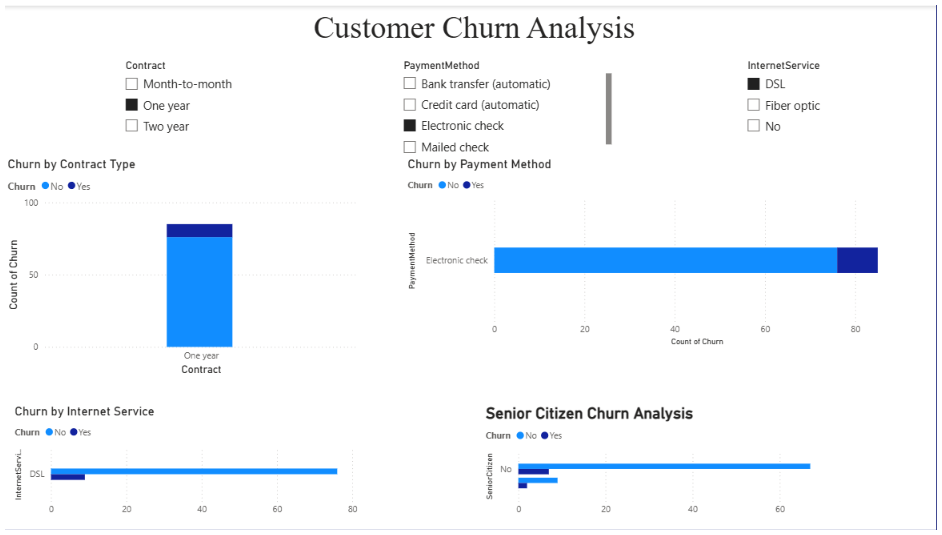

The dashboard page shown, as its layout file describes it:
{"tool":"powerbi","page":{"name":"Churn Analysis","canvas":[1280,720],"ordinal":1},"visuals":[{"type":"textbox","box":[9.6,0,1270.7,68.6],"z":0},{"type":"slicer","fields":{"Values":["powerbi_churn_predictions.Contract"]},"box":[153.7,68.6,201.7,138.6],"z":1000},{"type":"slicer","fields":{"Values":["powerbi_churn_predictions.InternetService"]},"box":[1007.2,68.6,201.7,138.6],"z":2000},{"type":"slicer","fields":{"Values":["powerbi_churn_predictions.PaymentMethod"]},"box":[535.2,68.6,303.3,138.6],"z":3000},{"type":"columnChart","title":"Churn by Contract Type","fields":{"Category":["powerbi_churn_predictions.Contract"],"Y":["CountNonNull(powerbi_churn_predictions.Churn)"],"Series":["powerbi_churn_predictions.Churn"]},"box":[0,207.2,489.9,304.6],"z":4000},{"type":"barChart","title":"Churn by Payment Method","fields":{"Category":["powerbi_churn_predictions.PaymentMethod"],"Y":["CountNonNull(powerbi_churn_predictions.Churn)"],"Series":["powerbi_churn_predictions.Churn"]},"box":[548.9,207.2,693,264.8],"z":5000},{"type":"clusteredBarChart","title":"Churn by Internet Service","fields":{"Category":["powerbi_churn_predictions.InternetService"],"Y":["CountNonNull(powerbi_churn_predictions.Churn)"],"Series":["powerbi_churn_predictions.Churn"]},"box":[9.6,546.1,480.3,163.3],"z":6000},{"type":"clusteredBarChart","title":"Senior Citizen Churn Analysis","fields":{"Y":["CountNonNull(powerbi_churn_predictions.Churn)"],"Series":["powerbi_churn_predictions.Churn"],"Category":["powerbi_churn_predictions.SeniorCitizen"]},"box":[655.9,546.1,480.3,163.3],"z":7000}]}

Visuals, with their boxes in screenshot pixels (x1, y1, x2, y2), scaled from the page's 1280x720 canvas onto the 942x535 screenshot:
textbox: left=7, top=0, right=941, bottom=51
slicer - powerbi_churn_predictions.Contract: left=113, top=51, right=262, bottom=154
slicer - powerbi_churn_predictions.InternetService: left=741, top=51, right=890, bottom=154
slicer - powerbi_churn_predictions.PaymentMethod: left=394, top=51, right=617, bottom=154
"Churn by Contract Type" columnChart: left=0, top=154, right=361, bottom=380
"Churn by Payment Method" barChart: left=404, top=154, right=914, bottom=351
"Churn by Internet Service" clusteredBarChart: left=7, top=406, right=361, bottom=527
"Senior Citizen Churn Analysis" clusteredBarChart: left=483, top=406, right=836, bottom=527
